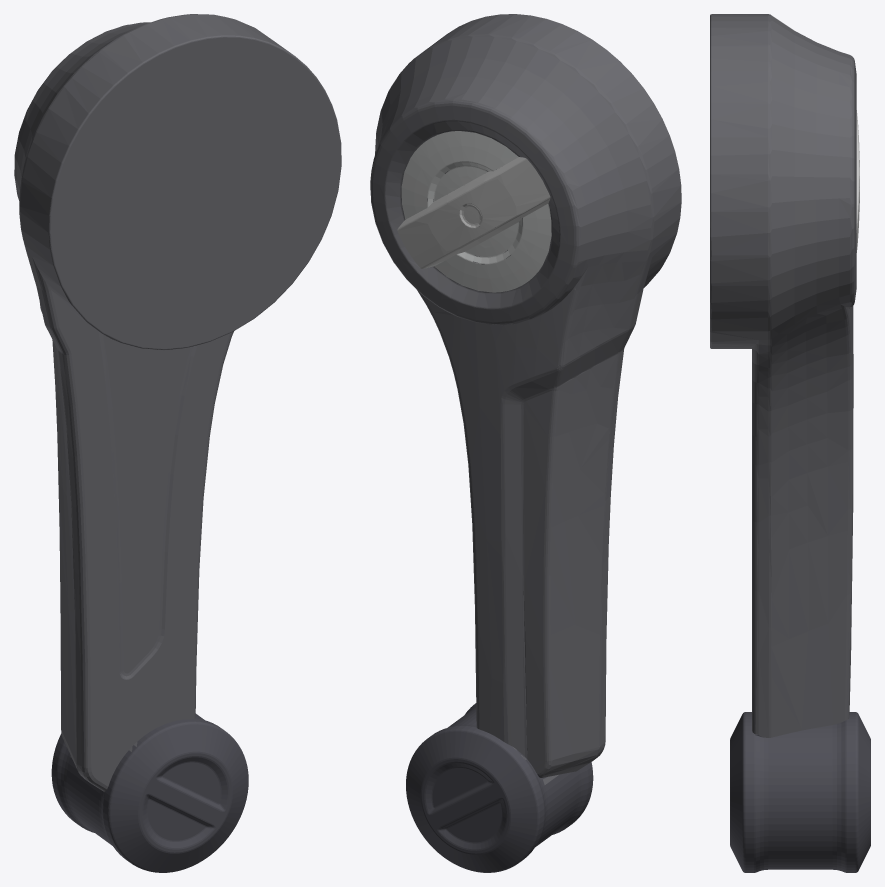
File: BP3_UPPER_L.dae
3 renders of one model, left to right at view 1: azimuth 30°, elevation 25°; view 2: azimuth 150°, elevation 25°; view 3: azimuth 270°, elevation 25°, orthographic. The views are drawn at different scales.
Visible parts, largest first — view 1: Leg Upper Left; view 2: Leg Upper Left; view 3: Leg Upper Left.
Boxes of the visible parts, x1=… form: Leg Upper Left: x1=14, y1=14, x2=341, y2=872; Leg Upper Left: x1=370, y1=14, x2=681, y2=872; Leg Upper Left: x1=710, y1=14, x2=870, y2=872.
Bounding box in the file's own units: 0.0999 × 0.048 × 0.2749.
1 material, 1 textured.
